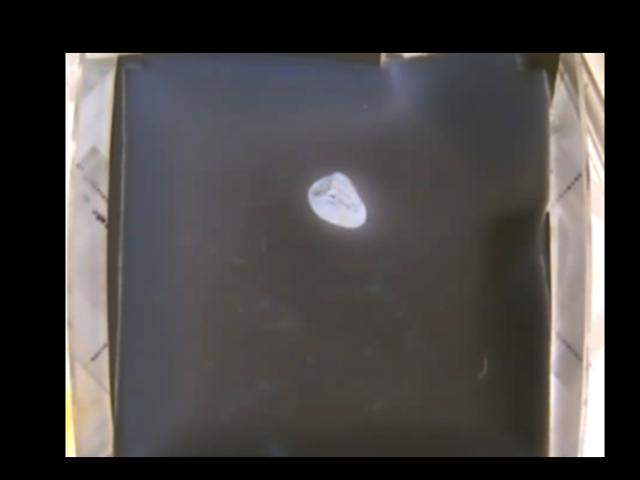Pebble: (307, 169, 367, 229)
